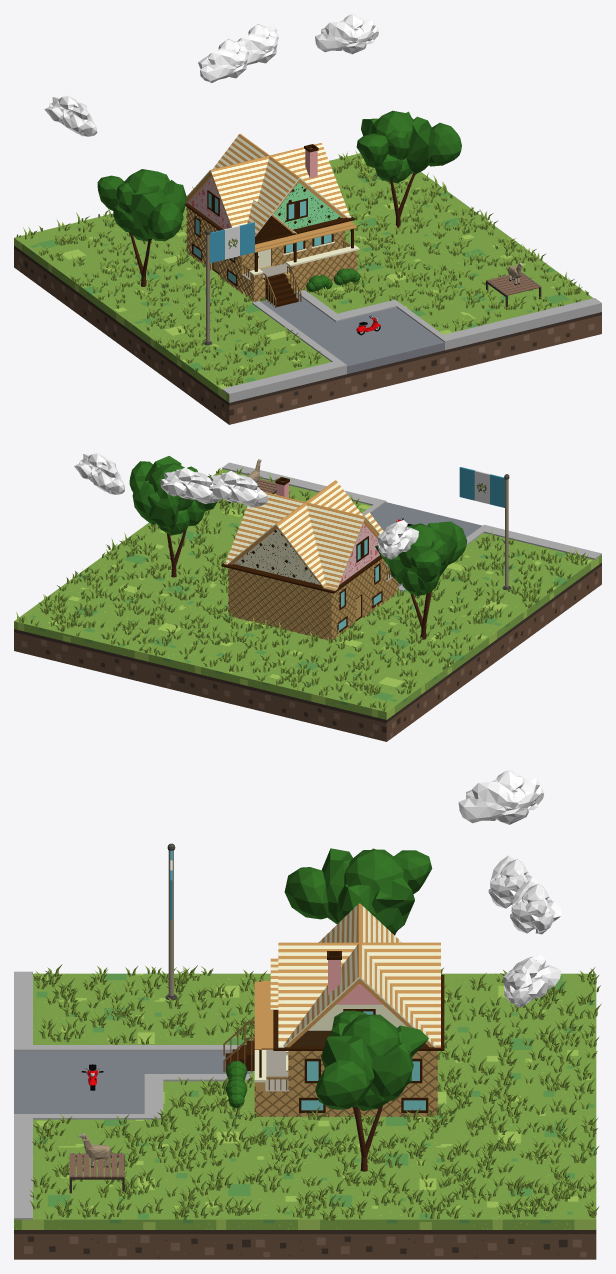
The picture shows the model from 3 angles, top to bottom: view 1: azimuth 30°, elevation 25°; view 2: azimuth 150°, elevation 25°; view 3: azimuth 270°, elevation 25°; orthographic projection. The views are drawn at different scales.
Visible parts, largest first — view 1: Cube.006, Cube.1102, Circle.012_Grass_0.192, Cube.007, tree, tree.001, OBJRANDOM_GUATEMALAN_FLAG, Cube.009; view 2: Cube.006, Cube.1102, Circle.012_Grass_0.192, Cube.007, tree.001, tree, OBJRANDOM_GUATEMALAN_FLAG; view 3: Cube.006, Circle.012_Grass_0.192, Cube.1102, tree, Cube.007, tree.001, Cube.009, OBJRANDOM_GUATEMALAN_FLAG.
Part boxes in pixels (x1,y1,x2,y2): Cube.006: (14,153,601,424); Cube.1102: (185,134,359,307); Circle.012_Grass_0.192: (16,150,588,386); Cube.007: (44,14,378,136); tree: (356,110,461,228); tree.001: (97,169,186,286); OBJRANDOM_GUATEMALAN_FLAG: (203,222,254,345); Cube.009: (486,272,541,306); Cube.006: (14,462,601,741); Cube.1102: (221,477,398,641); Circle.012_Grass_0.192: (16,468,588,711); Cube.007: (74,453,418,559); tree.001: (375,521,467,639); tree: (129,456,216,577); OBJRANDOM_GUATEMALAN_FLAG: (459,467,511,590); Cube.006: (14,971,596,1259); Circle.012_Grass_0.192: (29,964,601,1220); Cube.1102: (223,903,444,1116); tree: (315,1010,428,1171); Cube.007: (458,770,561,1007); tree.001: (284,848,432,935); Cube.009: (69,1153,124,1193); OBJRANDOM_GUATEMALAN_FLAG: (165,843,177,1000).
Bounding box in the file's own units: 4071 × 2277 × 4040.
35 materials, 4 textured.
